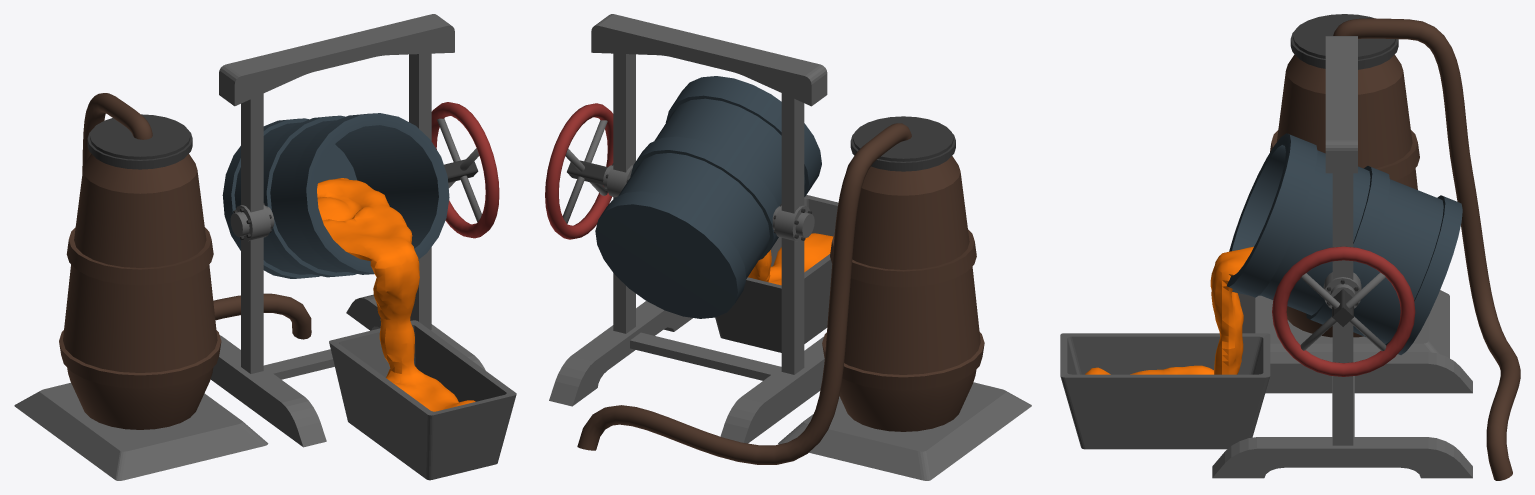
Rendered from ironworks.fbx.
3 views of the same model, side by side, from view 1: azimuth 30°, elevation 25°; view 2: azimuth 150°, elevation 25°; view 3: azimuth 270°, elevation 25° (orthographic). The views are drawn at different scales.
Visible parts, largest first — view 1: 円柱.006, 円柱, 立方体.002, 立方体.006, 立方体.005, 立方体.001, 立方体, 立方体.004, 円柱.007, ベジエカーブ, トーラス.001, 立方体.003 (+2 smaller); view 2: 円柱, 円柱.006, ベジエカーブ, 立方体.001, 立方体.005, 立方体.004, 立方体, 立方体.002, 円柱.007, トーラス.001, 立方体.003, 立方体.006 (+4 smaller); view 3: 円柱, 立方体.002, 立方体.004, ベジエカーブ, 円柱.006, トーラス.001, 立方体, 立方体.001, 立方体.006, 立方体.005, 円柱.007, 円柱.011 (+2 smaller).
Boxes of the visible parts, <box> form: 円柱.006: <box>59,154,221,429</box>; 円柱: <box>222,113,449,278</box>; 立方体.002: <box>329,320,516,480</box>; 立方体.006: <box>317,178,475,411</box>; 立方体.005: <box>14,382,268,480</box>; 立方体.001: <box>241,53,431,373</box>; 立方体: <box>219,14,454,106</box>; 立方体.004: <box>210,294,485,447</box>; 円柱.007: <box>87,114,192,169</box>; ベジエカーブ: <box>82,93,311,339</box>; トーラス.001: <box>431,102,499,238</box>; 立方体.003: <box>263,349,334,379</box>; 円柱: <box>595,76,821,318</box>; 円柱.006: <box>822,156,984,431</box>; ベジエカーブ: <box>577,123,911,464</box>; 立方体.001: <box>613,53,804,374</box>; 立方体.005: <box>778,382,1031,480</box>; 立方体.004: <box>549,301,824,443</box>; 立方体: <box>591,14,827,106</box>; 立方体.002: <box>715,195,838,352</box>; 円柱.007: <box>850,116,955,171</box>; トーラス.001: <box>545,103,613,239</box>; 立方体.003: <box>630,332,781,380</box>; 立方体.006: <box>748,233,833,285</box>; 円柱: <box>1227,133,1462,354</box>; 立方体.002: <box>1060,333,1270,449</box>; 立方体.004: <box>1212,352,1472,478</box>; ベジエカーブ: <box>1333,18,1520,480</box>; 円柱.006: <box>1270,54,1419,337</box>; トーラス.001: <box>1272,246,1415,376</box>; 立方体: <box>1325,36,1357,173</box>; 立方体.001: <box>1332,173,1353,445</box>; 立方体.006: <box>1085,246,1253,374</box>; 立方体.005: <box>1237,290,1449,358</box>; 円柱.007: <box>1290,14,1398,69</box>; 円柱.011: <box>1301,273,1386,351</box>.
Bounding box in the file's own units: 99.36 × 83.41 × 94.48.
